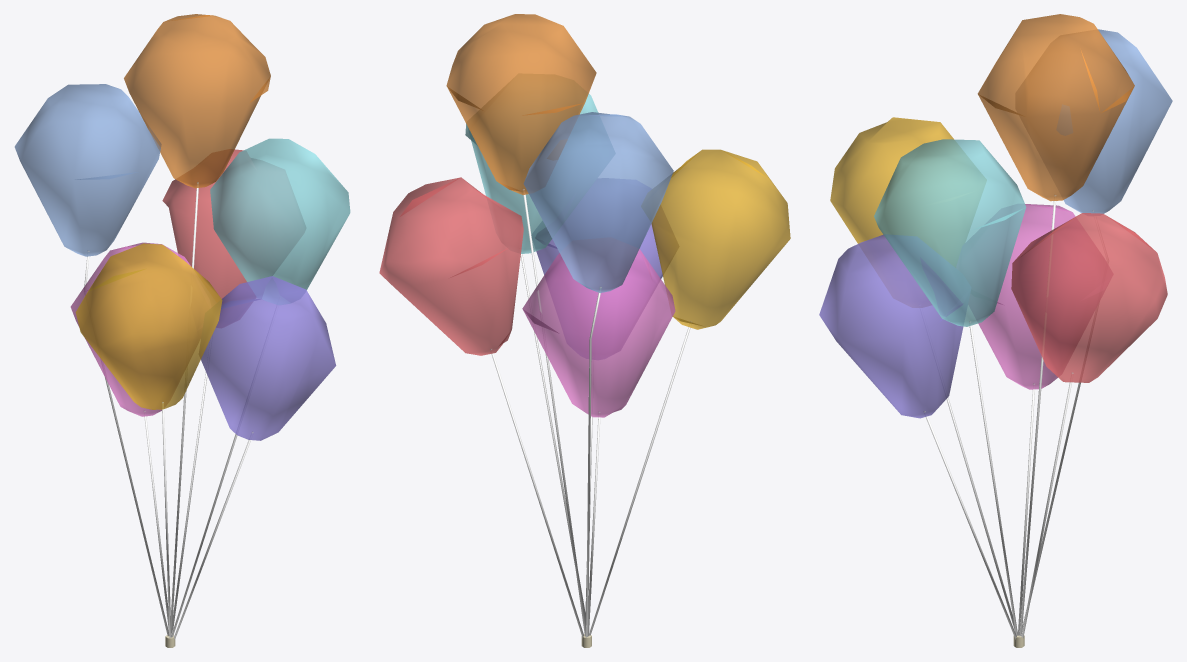
The model's file is Balloons1 LOD 1.fbx.
3 views of the same model, side by side, from view 1: azimuth 30°, elevation 25°; view 2: azimuth 150°, elevation 25°; view 3: azimuth 270°, elevation 25° (orthographic). The views are drawn at different scales.
Parts seen in each view (by area): view 1: Sphere.067; view 2: Sphere.067; view 3: Sphere.067.
Part boxes in pixels (<box>): Sphere.067: <box>14,14,350,647</box>; Sphere.067: <box>379,14,790,647</box>; Sphere.067: <box>819,14,1172,647</box>.
Size of the model in its own units: 70.34 by 139 by 69.
